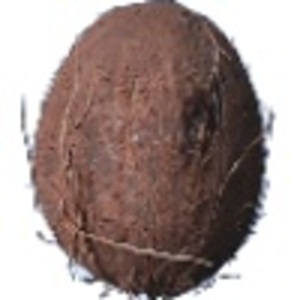coco: (21, 1, 275, 300)
